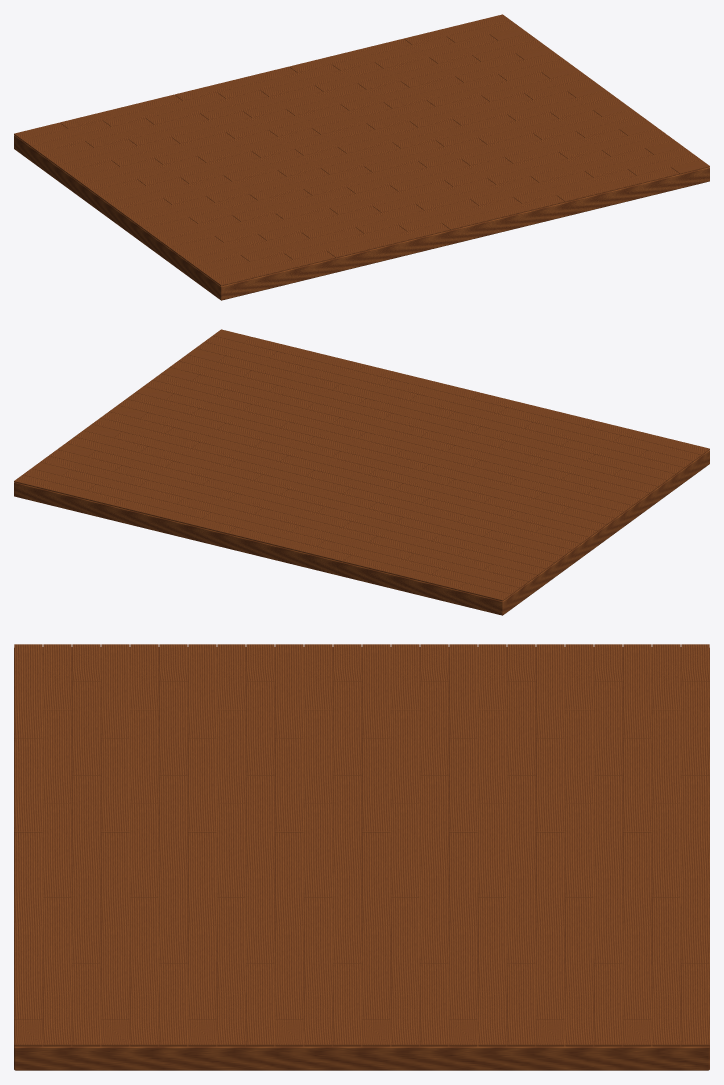
Rendered from hi3d-floor_1.glb.
3 renders of one model, top to bottom at view 1: azimuth 30°, elevation 25°; view 2: azimuth 150°, elevation 25°; view 3: azimuth 270°, elevation 25°, orthographic. The views are drawn at different scales.
Visible parts, largest first — view 1: floor_mesh; view 2: floor_mesh; view 3: floor_mesh.
Boxes of the visible parts, x1,y1,x2,y2 form: floor_mesh: (14,14,709,300); floor_mesh: (14,329,709,615); floor_mesh: (14,644,709,1070).
Size of the model in its own units: 6.4 by 0.196 by 4.7.
Materials: 1 (1 with a texture image).
